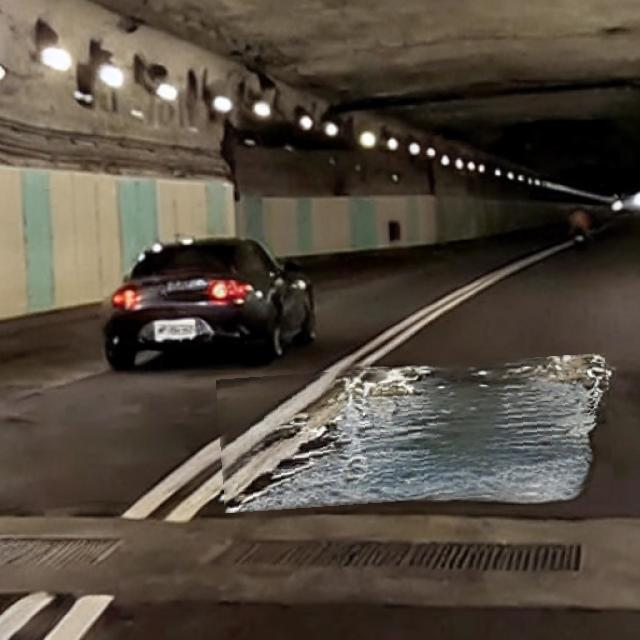puddle: (220, 361, 614, 508)
